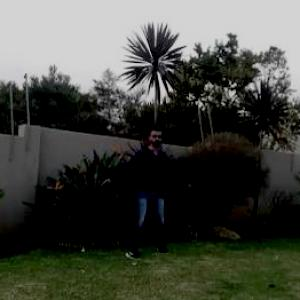land: (67, 109, 204, 276)
